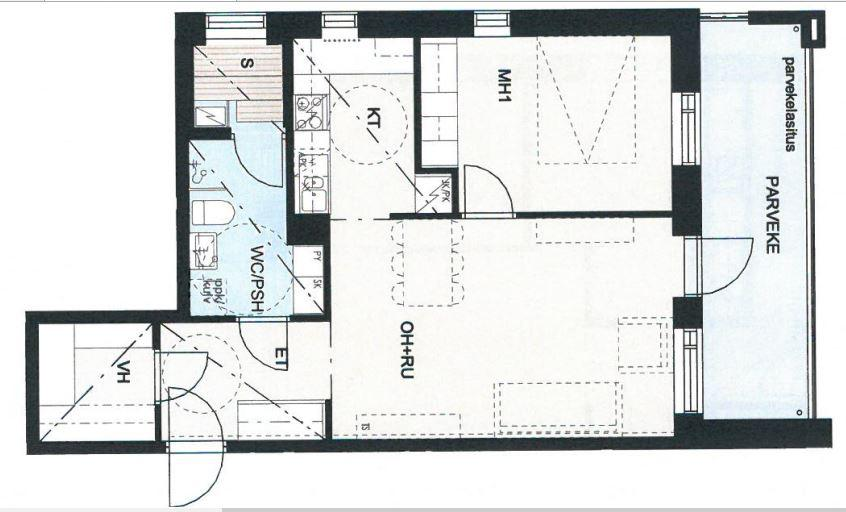bathroom: (186, 139, 292, 319)
door: (163, 439, 228, 508), (163, 387, 226, 455), (682, 236, 753, 296), (151, 349, 212, 410), (229, 127, 286, 189), (234, 316, 293, 374), (460, 162, 517, 221)
perimeter: (28, 13, 704, 448)
window: (672, 323, 706, 418), (670, 87, 701, 172), (200, 11, 271, 46), (315, 11, 364, 41), (469, 10, 515, 37)
